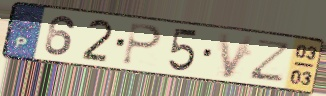2: (80, 18, 114, 64)
5: (167, 28, 200, 73)
6: (43, 14, 77, 58)
P: (119, 21, 164, 68)
V: (216, 31, 257, 80)
Z: (247, 37, 295, 83)
